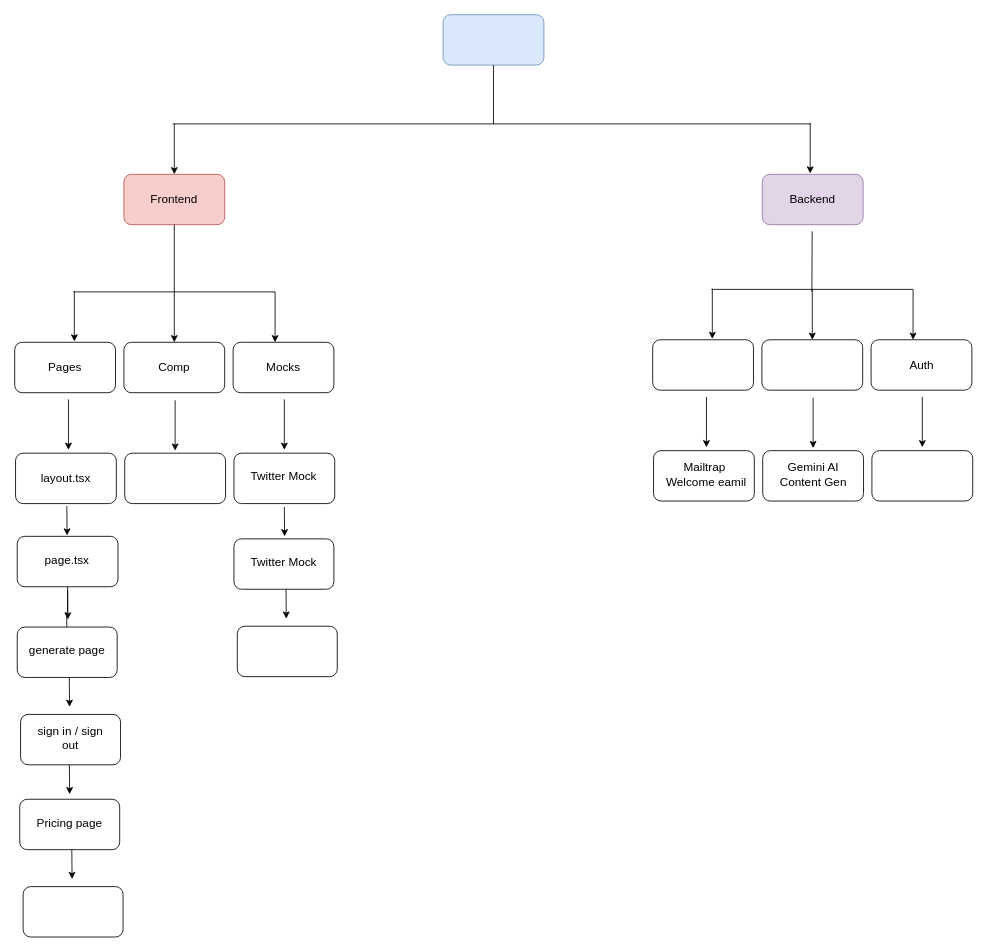
The diagram is 988 pixels wide and 952 high, and some of its shapes have lost their labels. Each missing label, with the box of its shape:
AI: (761, 339, 863, 390)
API: (652, 339, 753, 390)
Clerk User Auth: (871, 450, 973, 501)
docs page: (22, 886, 123, 937)
LinkedIn Mock: (236, 625, 337, 677)
Navbar.tsx: (124, 452, 226, 504)
ThreadCraft: (442, 14, 544, 65)
